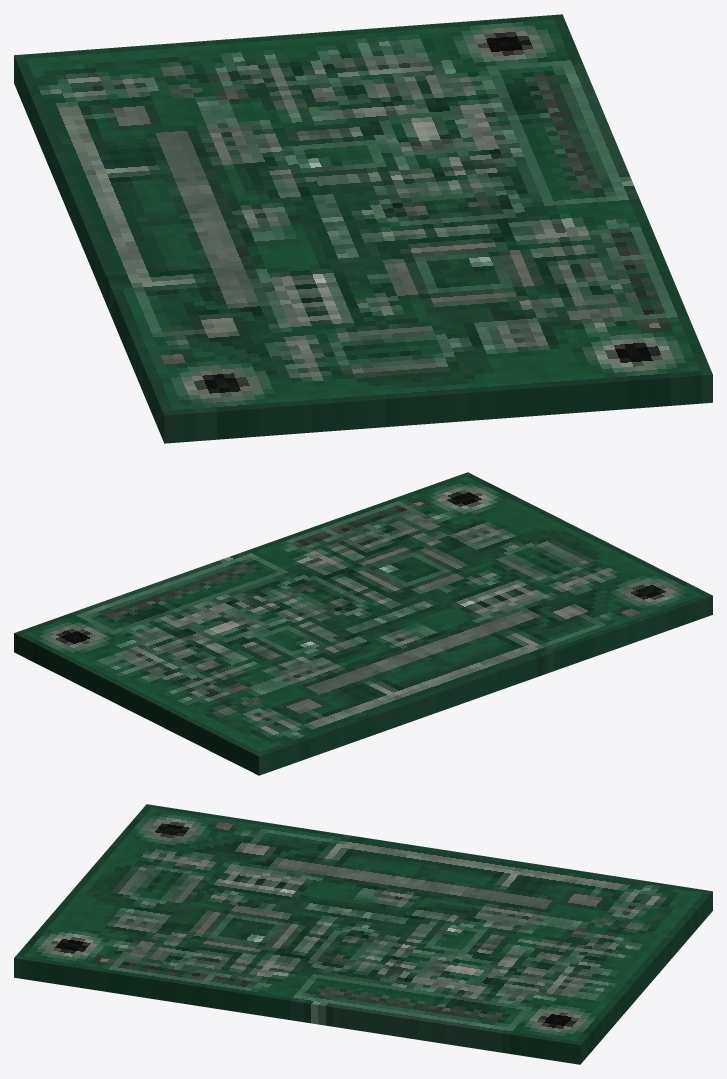
The model's file is pcb_1.glb.
3 renders of one model, top to bottom at view 1: azimuth 30°, elevation 25°; view 2: azimuth 150°, elevation 25°; view 3: azimuth 270°, elevation 25°, orthographic. The views are drawn at different scales.
Visible parts, largest first — view 1: pcb_1; view 2: pcb_1; view 3: pcb_1.
Part boxes in pixels (x1,y1,x2,y2): pcb_1: [14, 14, 712, 443]; pcb_1: [14, 472, 712, 775]; pcb_1: [14, 804, 712, 1064].
Bounding box in the file's own units: 0.1324 × 0.005 × 0.1622.
Materials: 1 (1 with a texture image).
